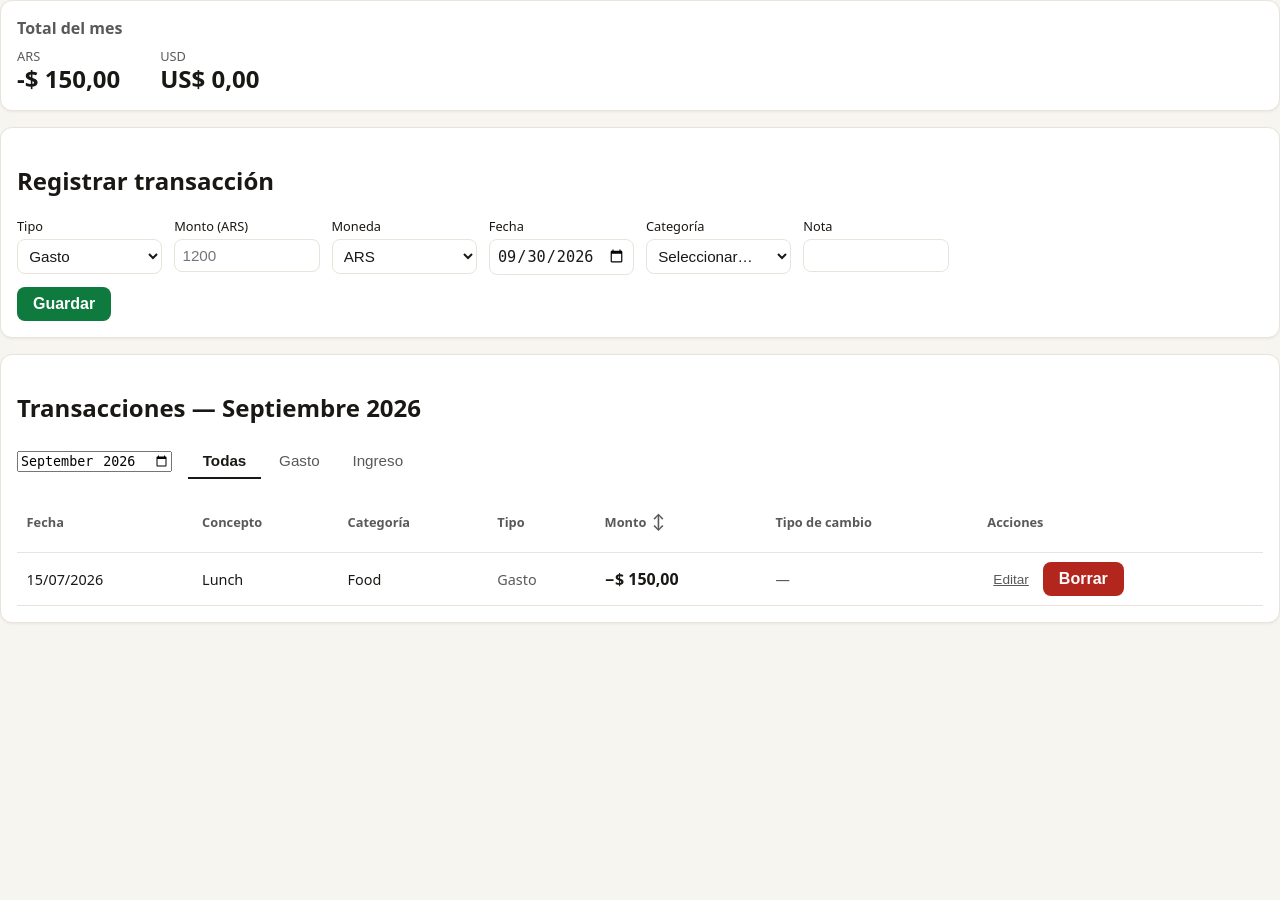
Scenario: TransactionsPage › edits a row: prefills the form, PATCHes and updates the list without a Cargando… flash
Expected: the text "−$ 150,00" is shown, [605,568,679,590]
Click the button "Editar".
click(1011, 579)  # box [987,571,1035,588]
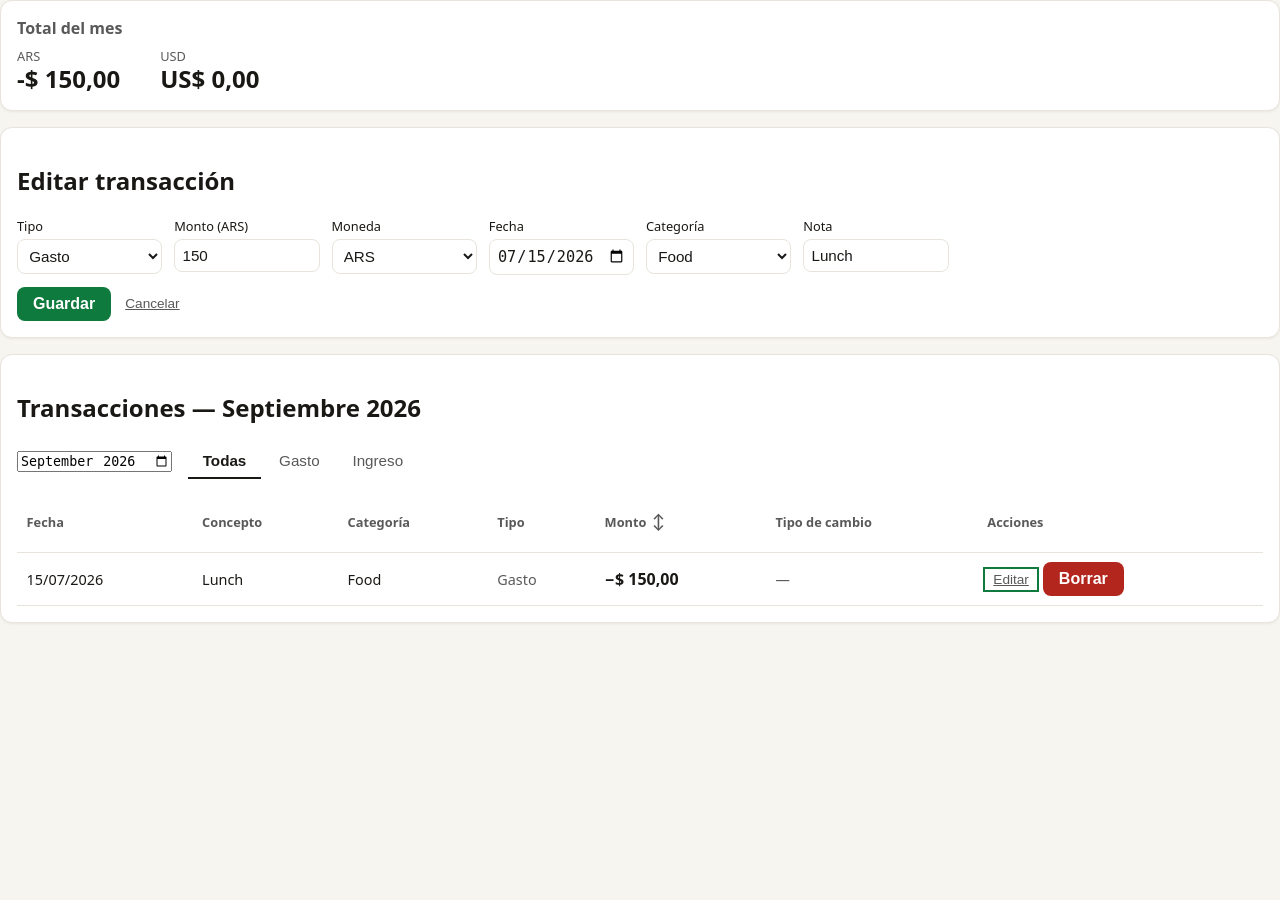
Result: the field with test id "amount" holds "150"
Result: the field with test id "note" holds "Lunch" at [803,239,949,272]
Result: the button with test id "cancel" is shown at [119,296,186,312]
Replace the text in the field with test id "amount" with "300" at (247, 255), box [174,239,320,272]
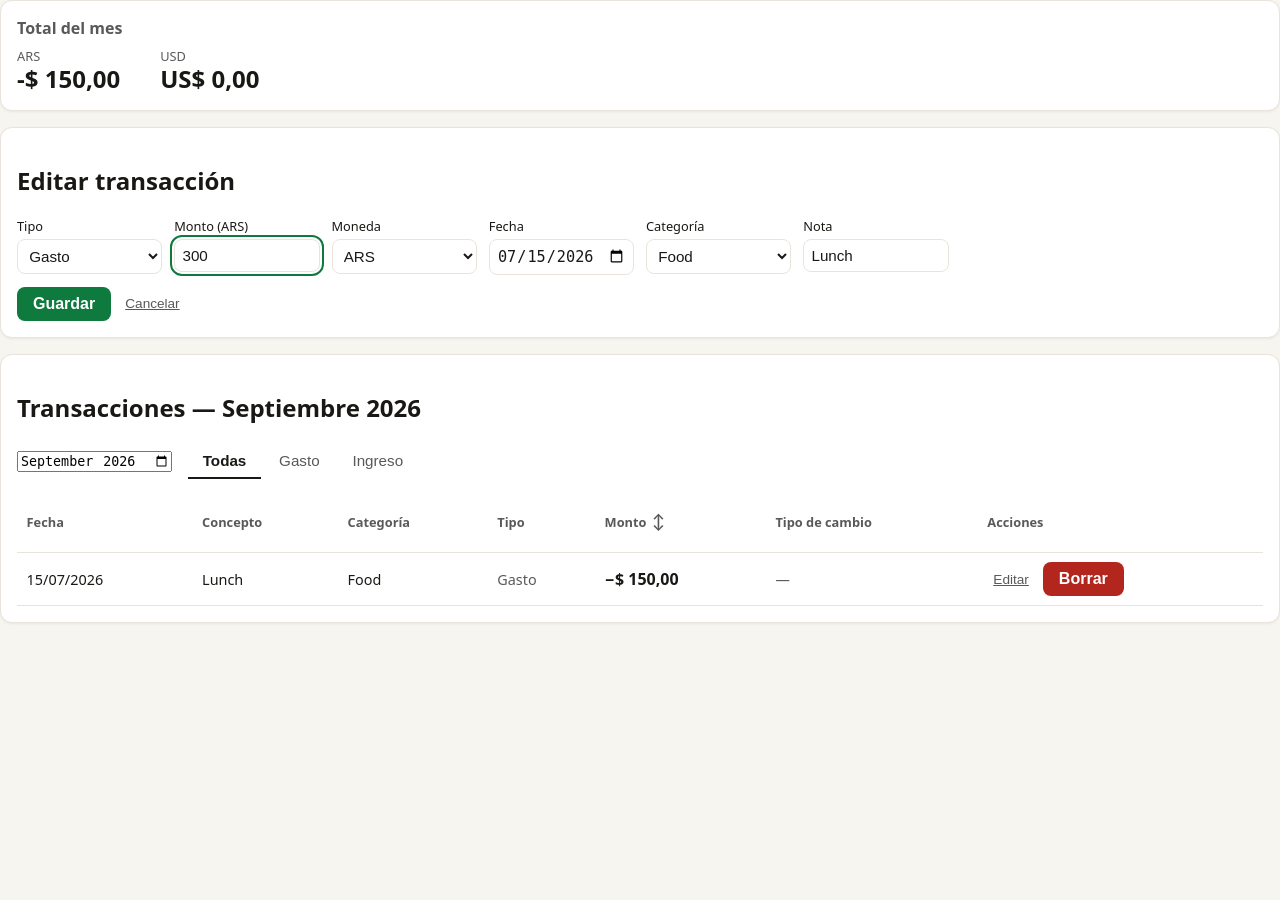
Replace the text in the field with test id "note" with "Lunch with client" at (876, 255), box [803,239,949,272]
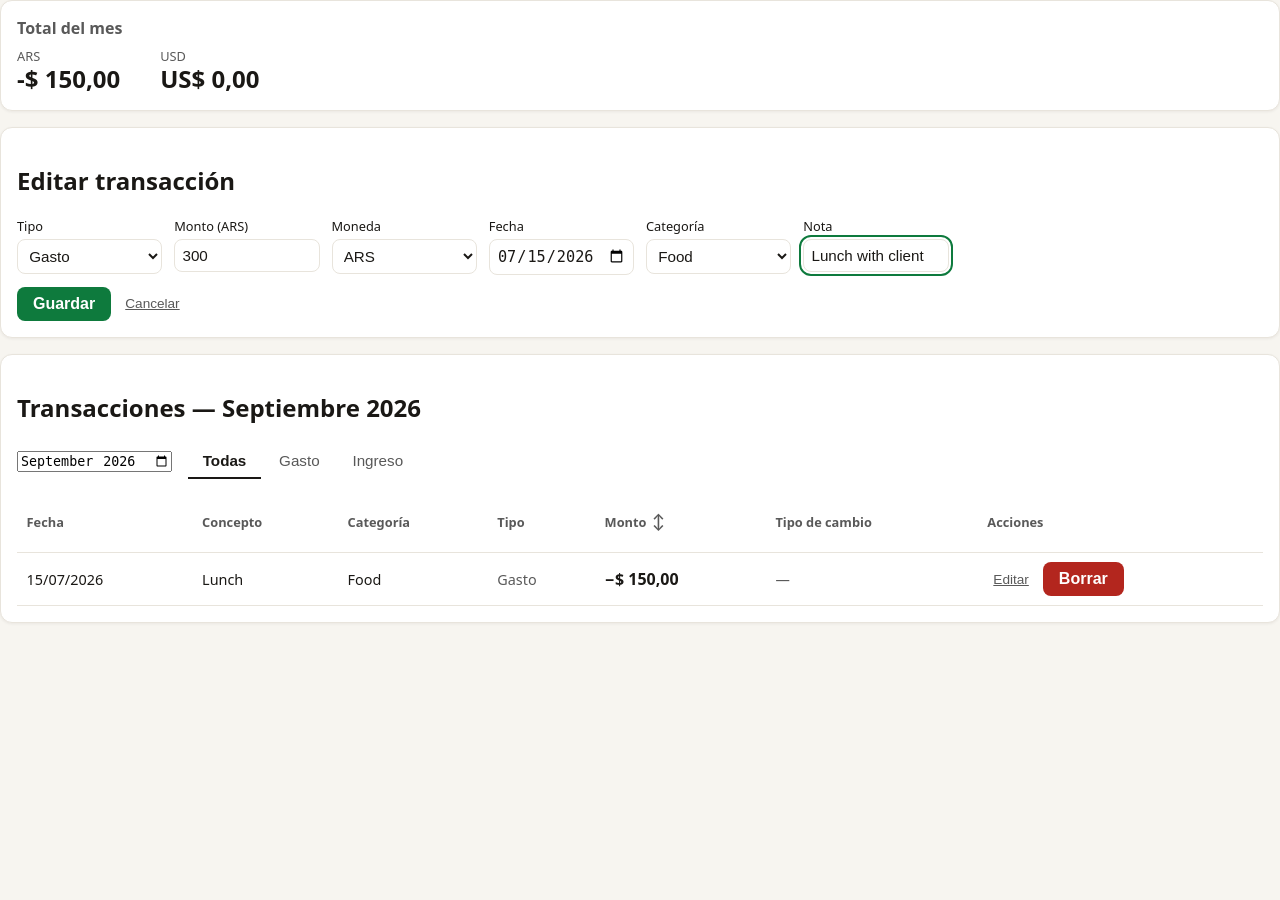
Click the button with test id "submit".
click(64, 304)  # box [17,287,111,321]
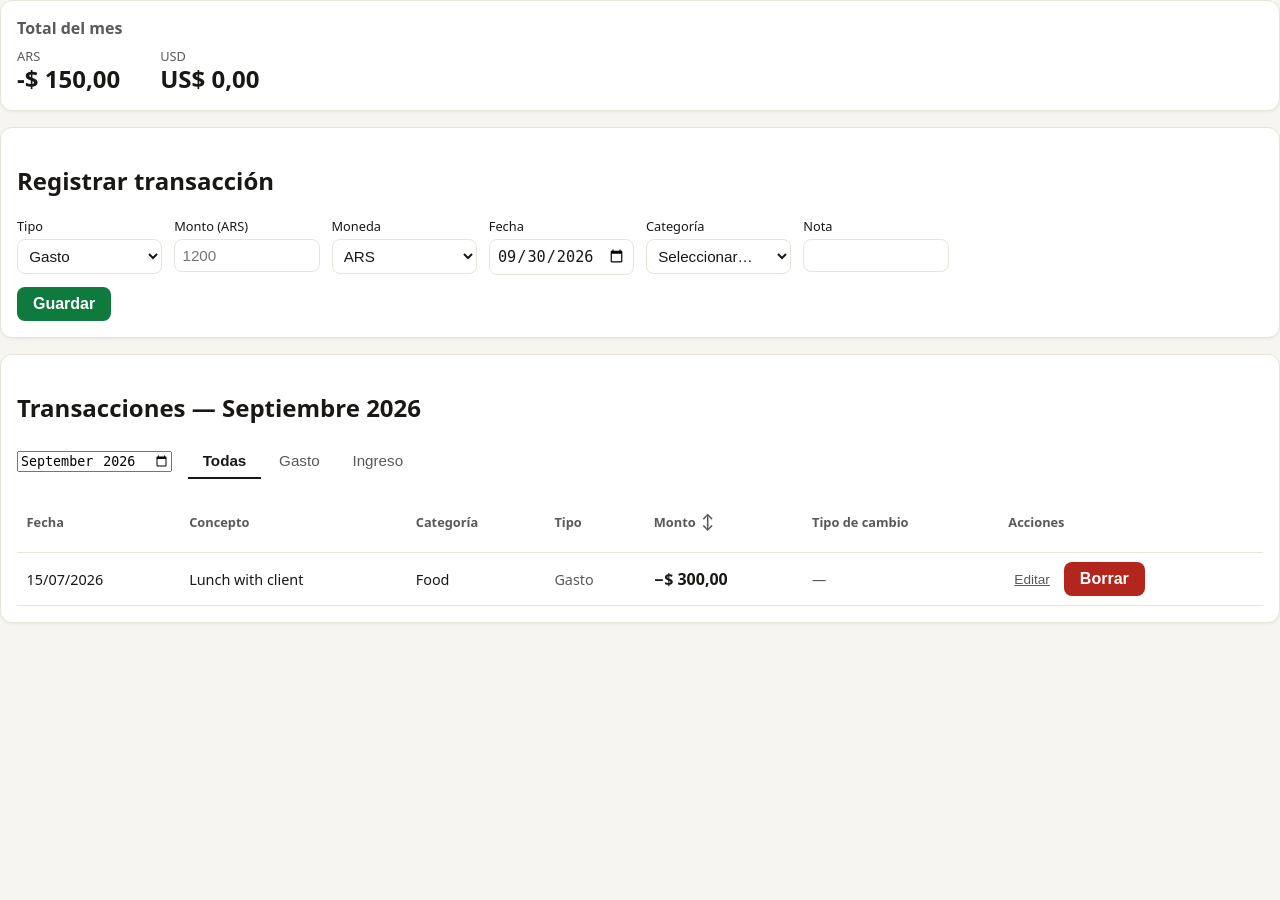
Result: the text "−$ 300,00" is shown at [654,568,728,590]
Result: the button with test id "cancel" is gone
